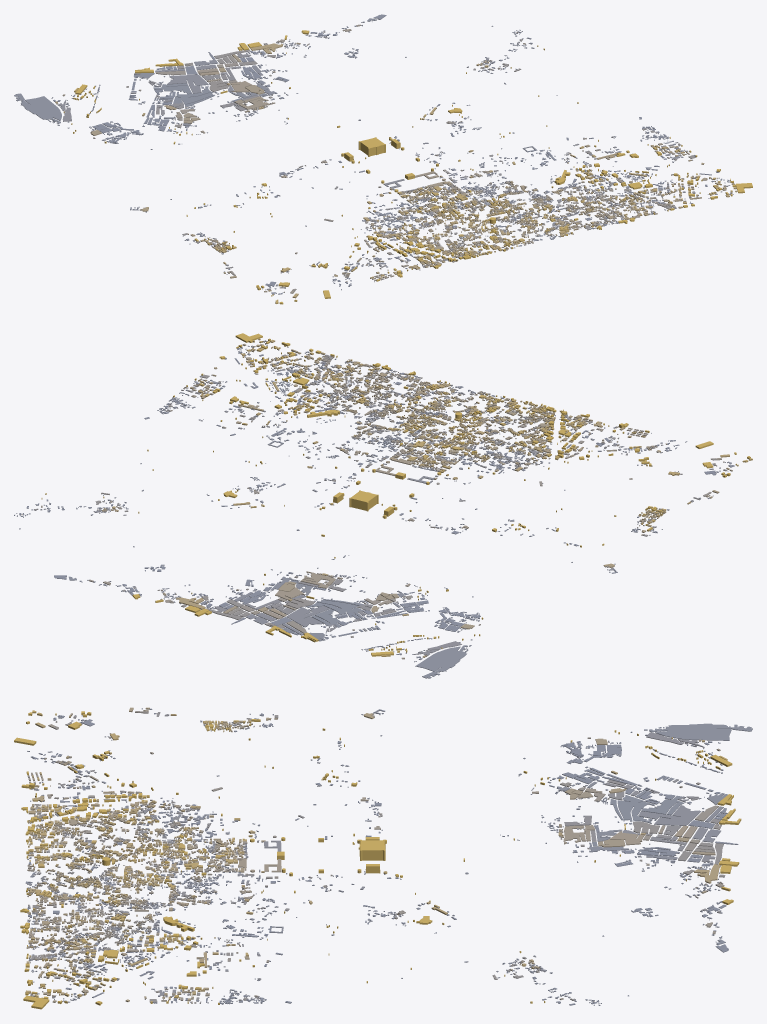
Rendered from buildings.glb.
3 views of the same model, one above another, from view 1: azimuth 30°, elevation 25°; view 2: azimuth 150°, elevation 25°; view 3: azimuth 270°, elevation 25° (orthographic). The views are drawn at different scales.
Visible parts, largest first — view 1: buildings; view 2: buildings; view 3: buildings.
Boxes of the visible parts, box(x1,y1,x2,y2) form: buildings: box(14, 14, 752, 304); buildings: box(14, 333, 752, 678); buildings: box(14, 707, 752, 1009).
Size of the model in its own units: 2891 by 64.46 by 2967.
